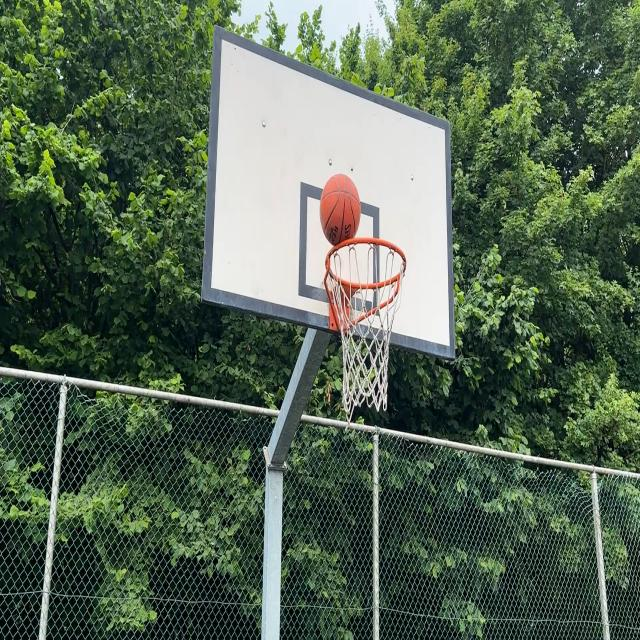rebound_hit: (320, 174, 362, 250)
